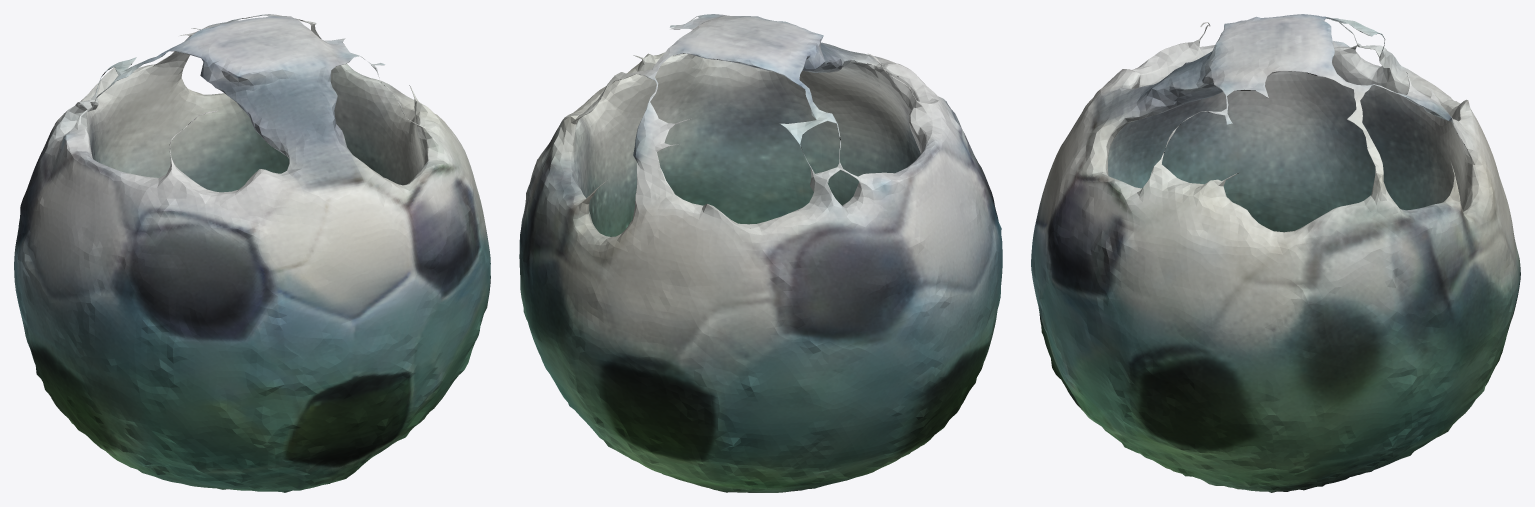
Rendered from sock.glb.
3 views of the same model, side by side, from view 1: azimuth 30°, elevation 25°; view 2: azimuth 150°, elevation 25°; view 3: azimuth 270°, elevation 25° (orthographic). The views are drawn at different scales.
Size of the model in its own units: 0.6008 by 0.5965 by 0.6072.
Materials: 1 (1 with a texture image).
